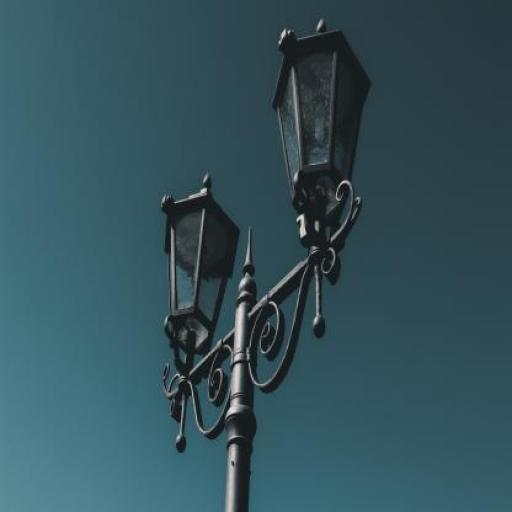street light: (161, 16, 373, 511)
